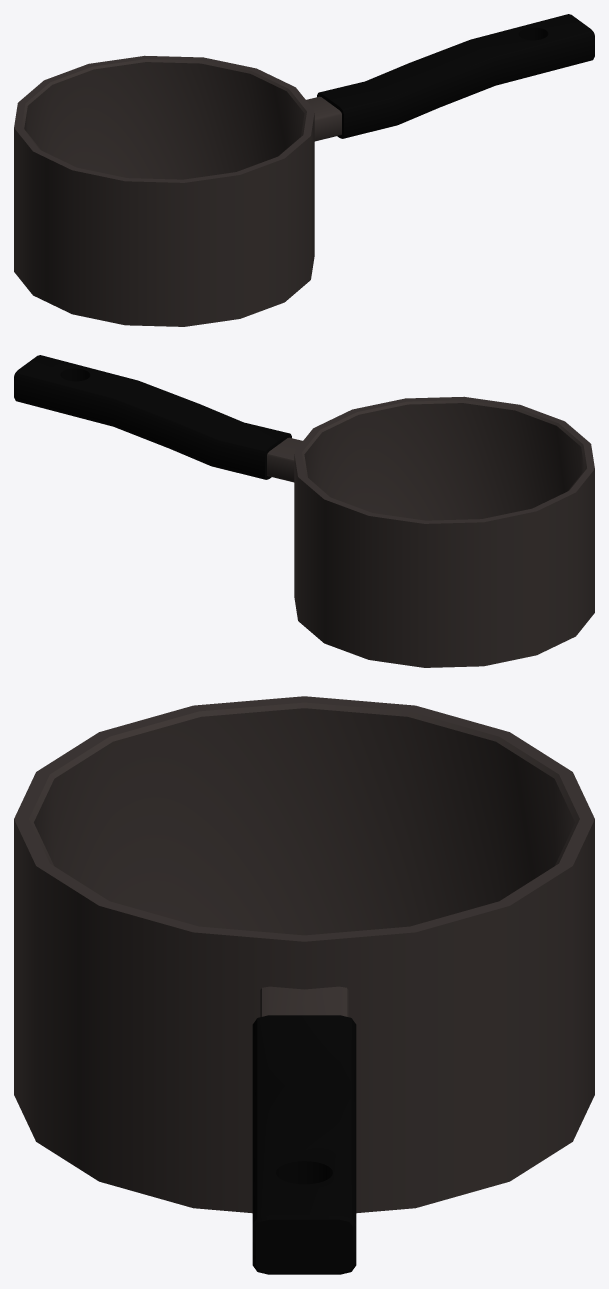
File: LP_sauce_pot2.glb
The picture shows the model from 3 angles, top to bottom: view 1: azimuth 30°, elevation 25°; view 2: azimuth 150°, elevation 25°; view 3: azimuth 270°, elevation 25°; orthographic projection. The views are drawn at different scales.
Parts seen in each view (by area): view 1: LP_sauce_pot2.001; view 2: LP_sauce_pot2.001; view 3: LP_sauce_pot2.001.
Part boxes in pixels (<box>): LP_sauce_pot2.001: <box>14,14,594,326</box>; LP_sauce_pot2.001: <box>14,355,594,667</box>; LP_sauce_pot2.001: <box>14,696,594,1274</box>.
Size of the model in its own units: 0.5618 by 0.1408 by 0.2687.
Materials: 1 (1 with a texture image).
